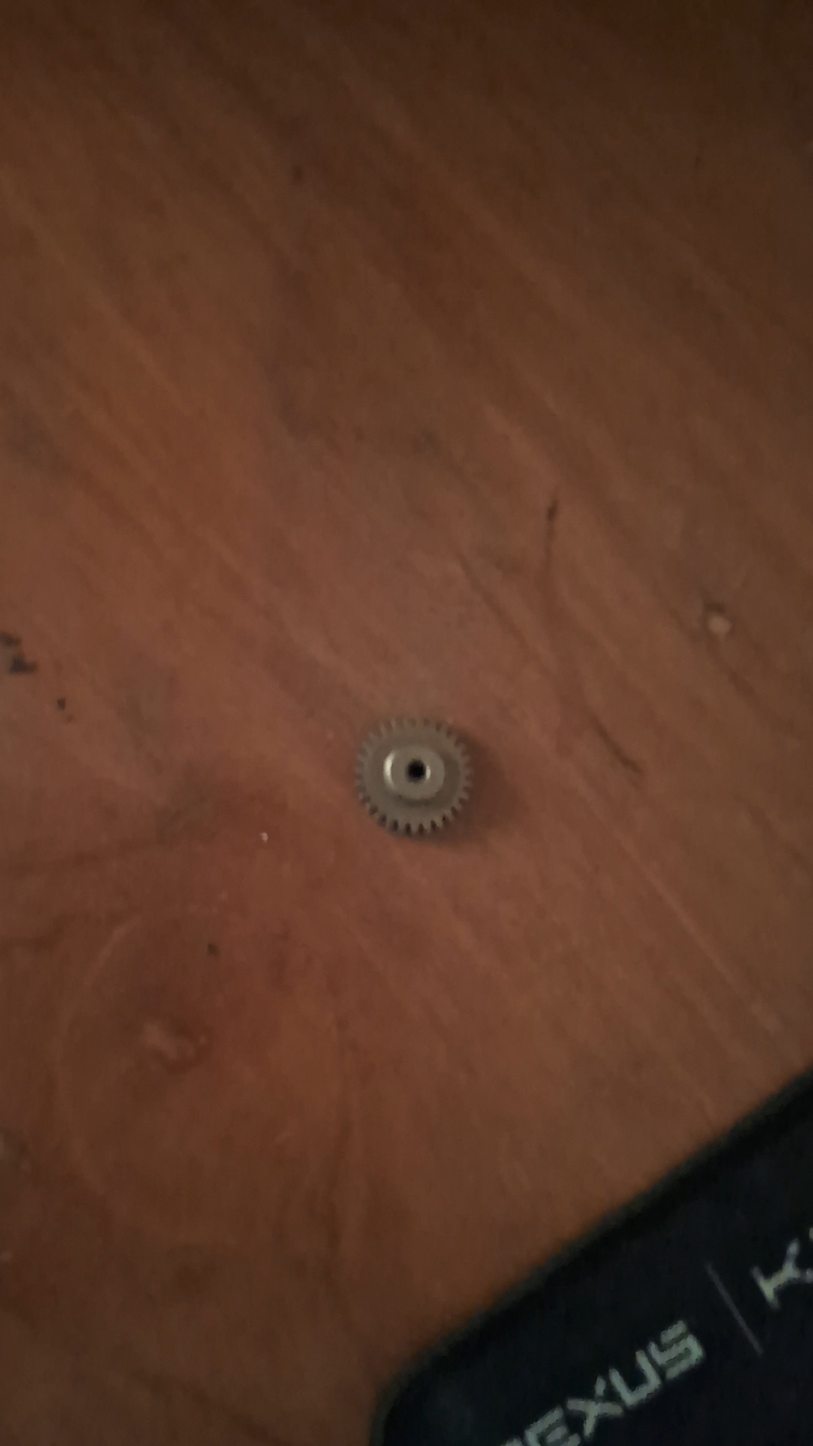spur gear: (356, 720, 471, 835)
